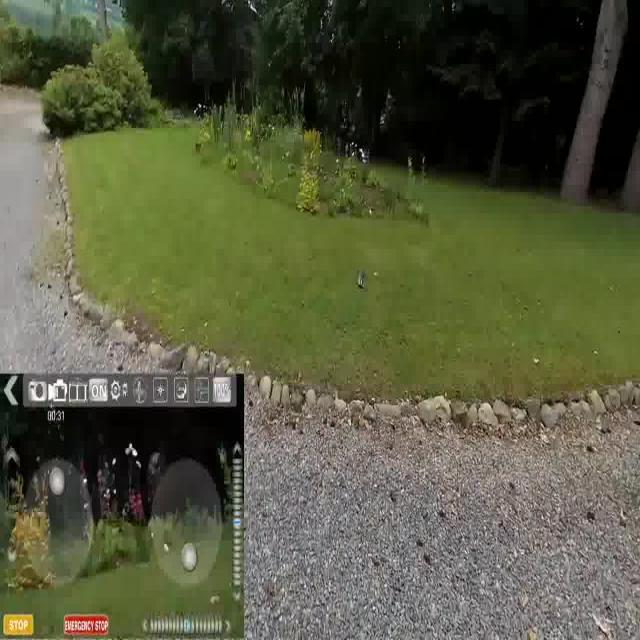drones: (356, 267, 368, 296)
